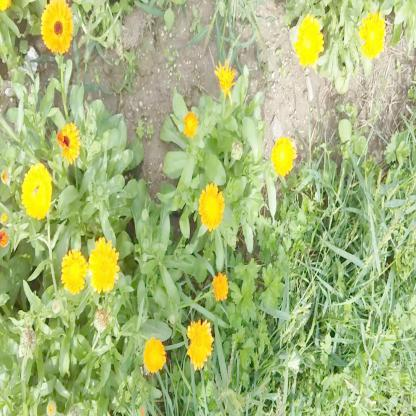marigold: (40, 0, 76, 55), (296, 17, 326, 68), (88, 241, 116, 292), (24, 164, 50, 217), (184, 319, 212, 367), (199, 182, 224, 230), (359, 13, 384, 60), (60, 250, 86, 294), (54, 119, 78, 161), (272, 134, 296, 173), (214, 60, 235, 98), (143, 335, 165, 371), (213, 275, 229, 301)
